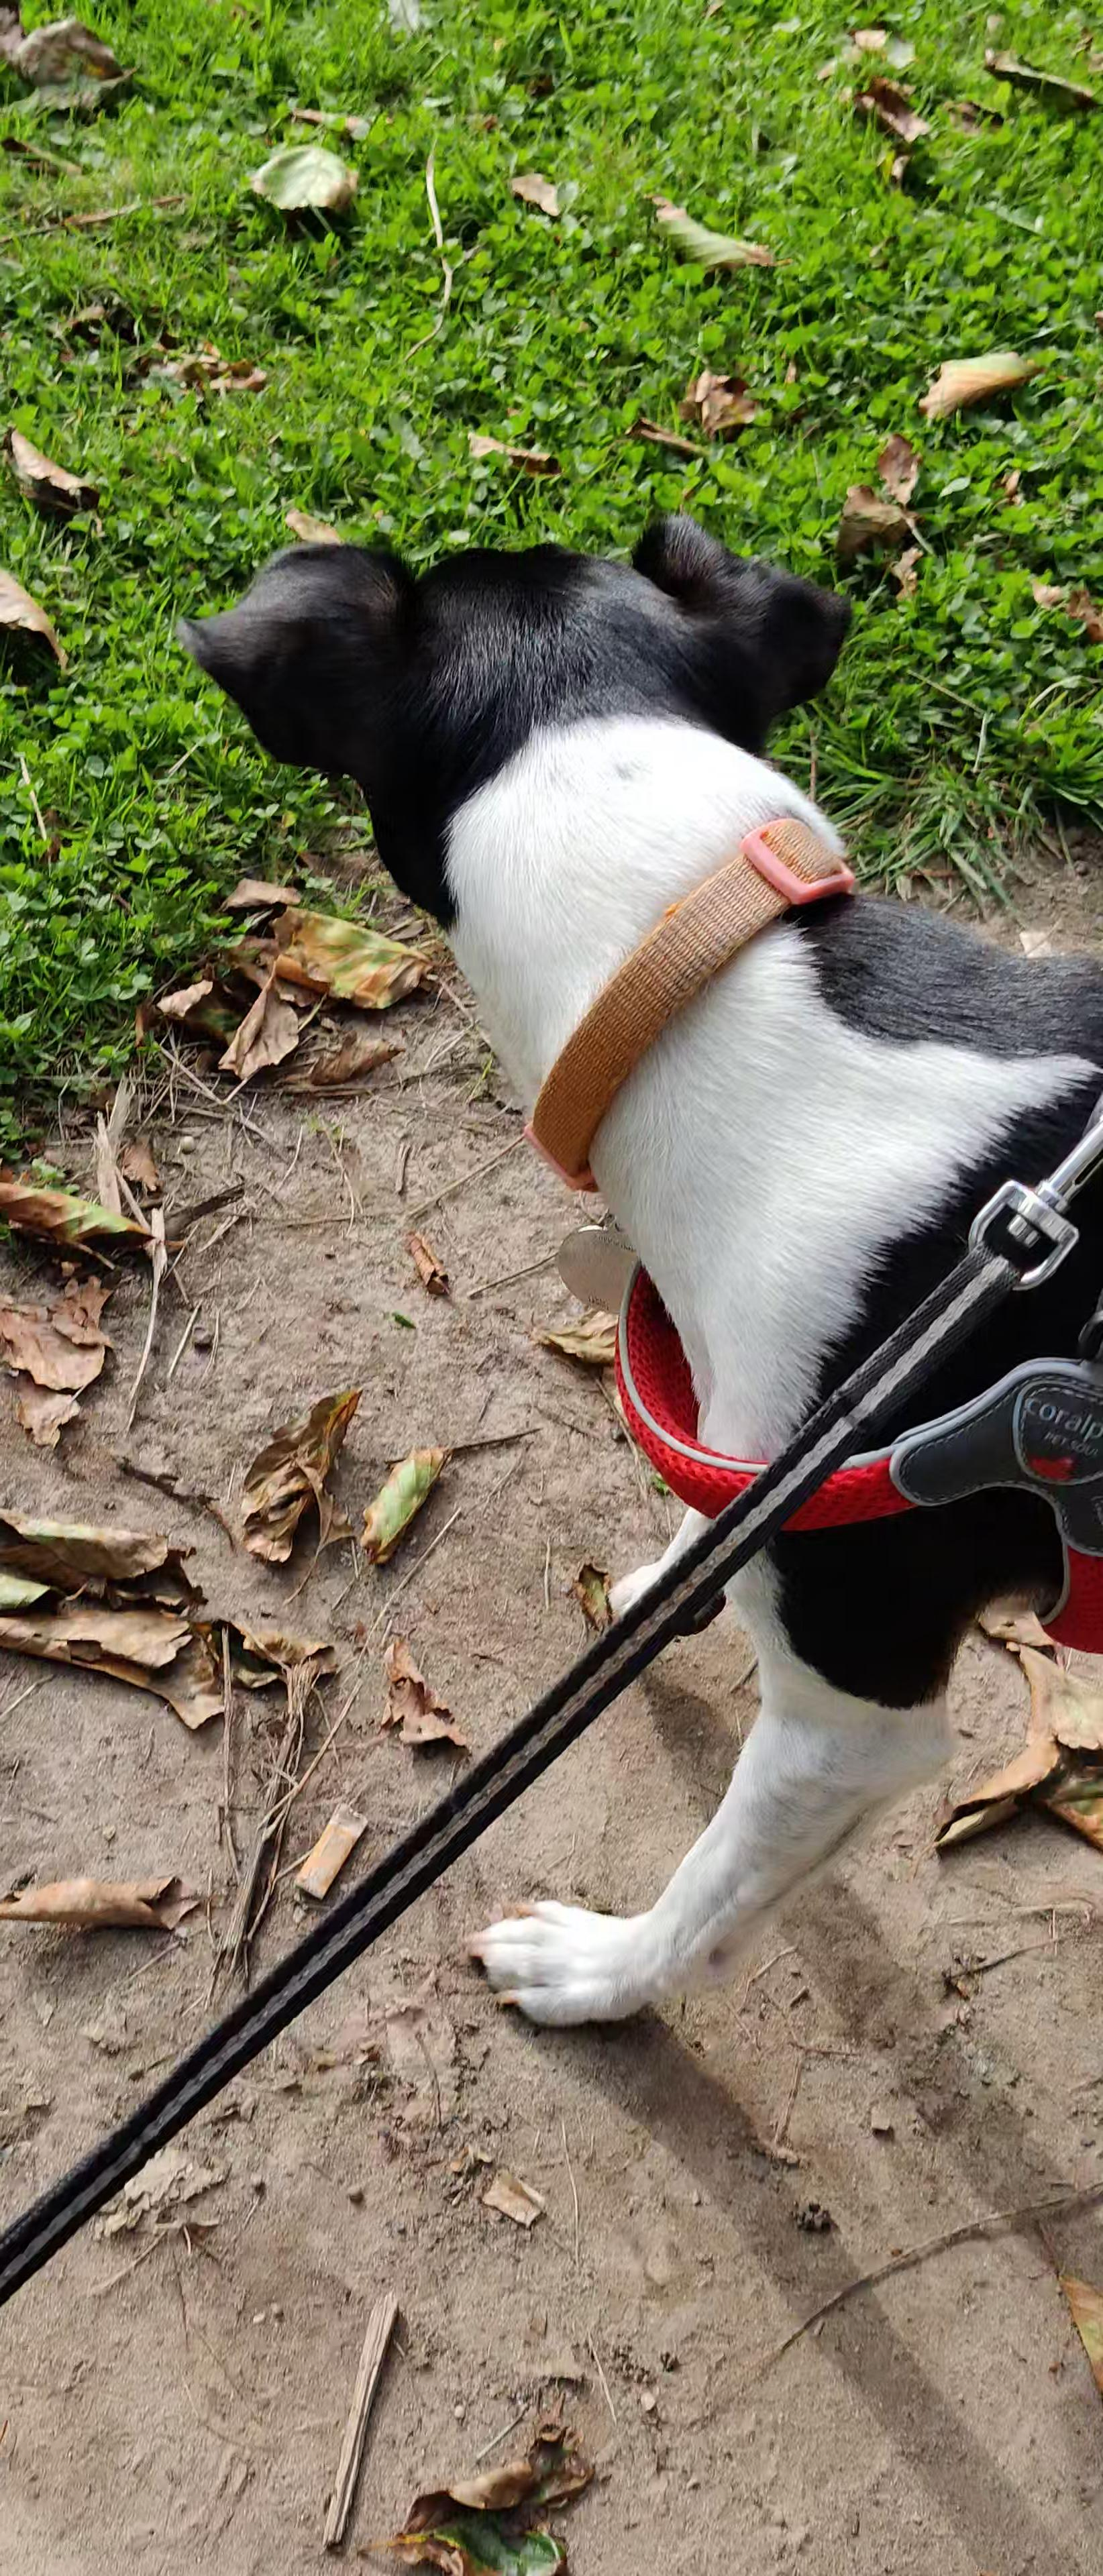Dog: (173, 499, 1103, 2027)
